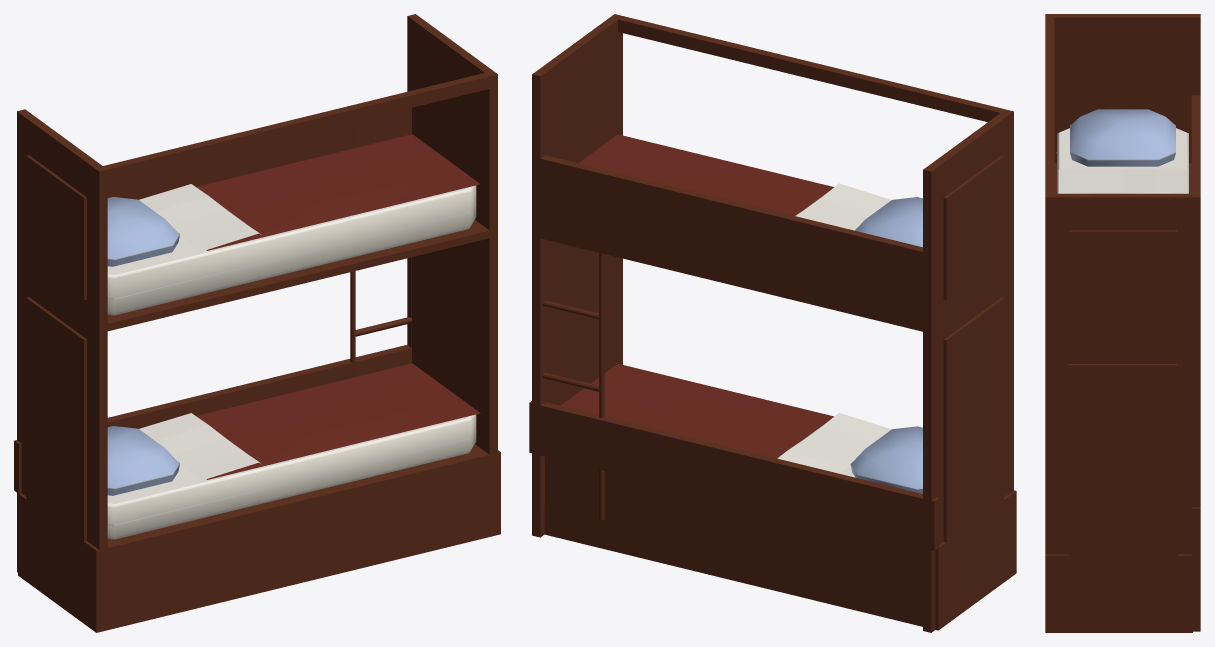
The model's file is parametric-sized-berth-double-l170w60-3rd.glb.
3 views of the same model, side by side, from view 1: azimuth 30°, elevation 25°; view 2: azimuth 150°, elevation 25°; view 3: azimuth 270°, elevation 25° (orthographic). The views are drawn at different scales.
Visible parts, largest first — view 1: parametric-sized-berth-double-l170w60-3rd; view 2: parametric-sized-berth-double-l170w60-3rd; view 3: parametric-sized-berth-double-l170w60-3rd.
Boxes of the visible parts, box(x1,y1,x2,y2) form: parametric-sized-berth-double-l170w60-3rd: box(14, 14, 500, 632); parametric-sized-berth-double-l170w60-3rd: box(529, 14, 1016, 632); parametric-sized-berth-double-l170w60-3rd: box(1045, 14, 1200, 632).
Size of the model in its own units: 1.7 by 1.85 by 0.6.
